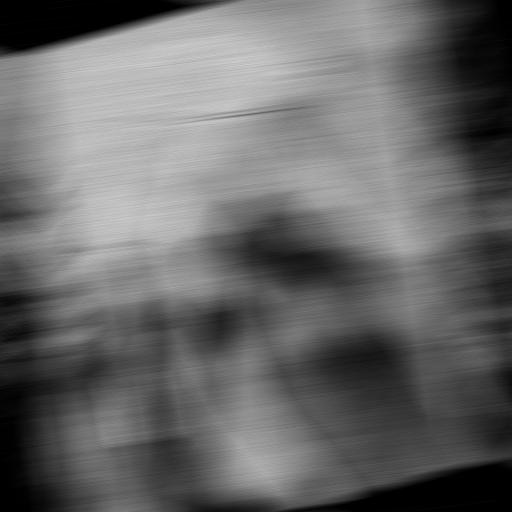bottom_right: (76, 451, 117, 477)
house: (43, 24, 447, 485)
